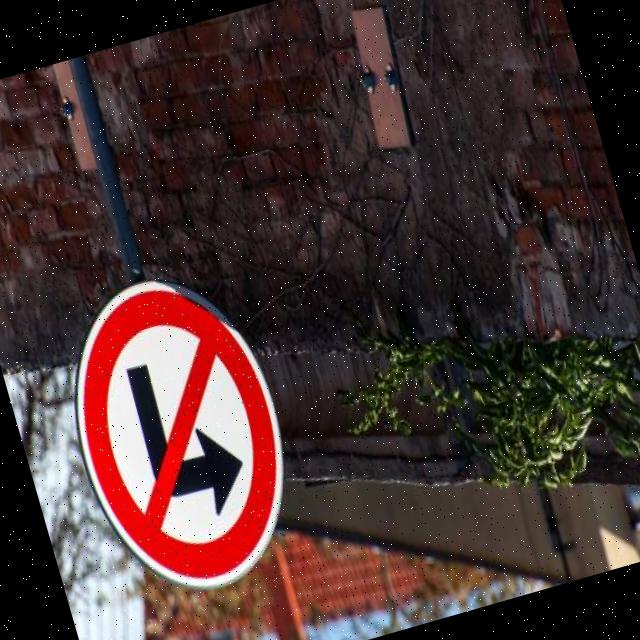do_not_turn_right: (29, 235, 326, 624)
